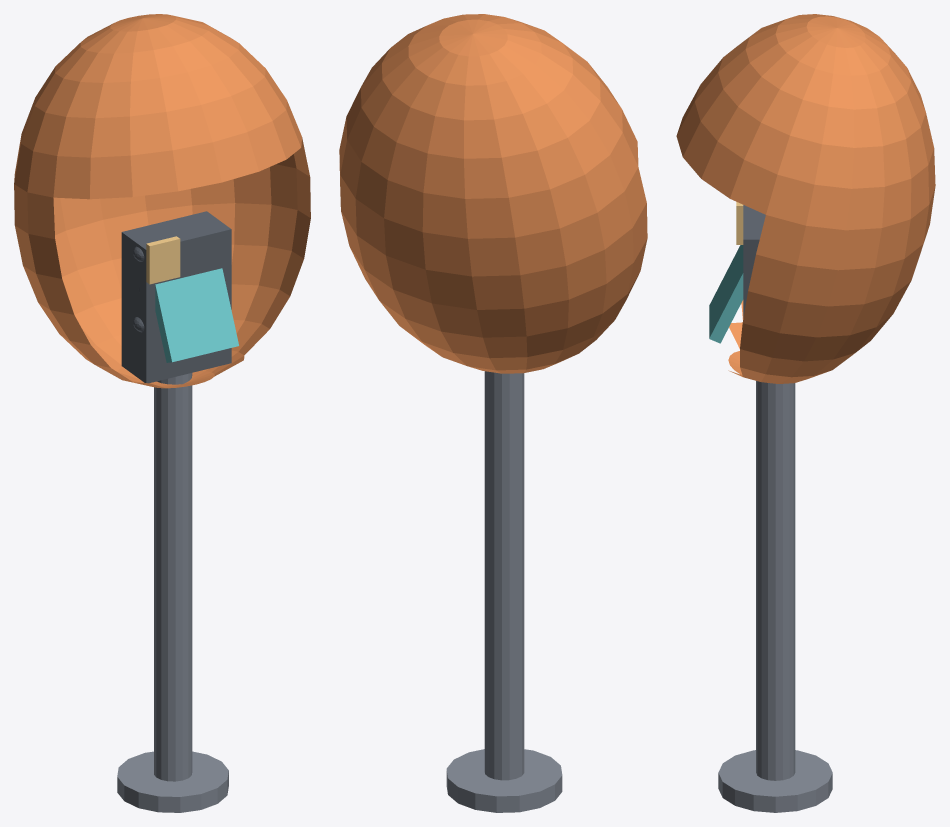
Rendered from orelhao.glb.
3 views of the same model, side by side, from view 1: azimuth 30°, elevation 25°; view 2: azimuth 150°, elevation 25°; view 3: azimuth 270°, elevation 25° (orthographic). The views are drawn at different scales.
Visible parts, largest first — view 1: Prop_Orelhao; view 2: Prop_Orelhao; view 3: Prop_Orelhao.
Part boxes in pixels (x1=…): Prop_Orelhao: x1=14, y1=14, x2=310, y2=812; Prop_Orelhao: x1=339, y1=14, x2=647, y2=812; Prop_Orelhao: x1=676, y1=14, x2=935, y2=812.
Size of the model in its own units: 0.88 by 2.35 by 0.7248.
